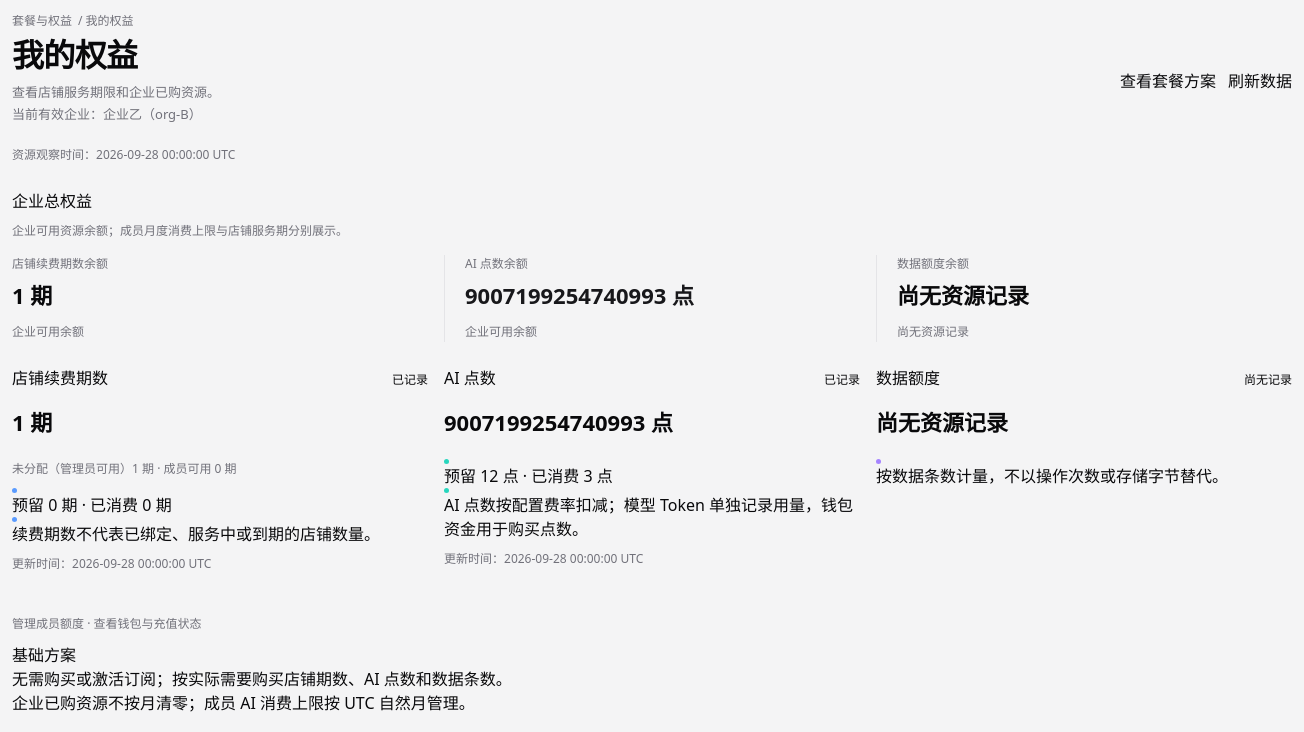
Test case: hides prior success on refresh and displays safe ORGANIZATION_ACCESS_REVOKED without fallback
The width and height of the screenshot is (1304, 732).
Click the button "刷新数据" at x=1260, y=81, box [1228, 69, 1292, 93]
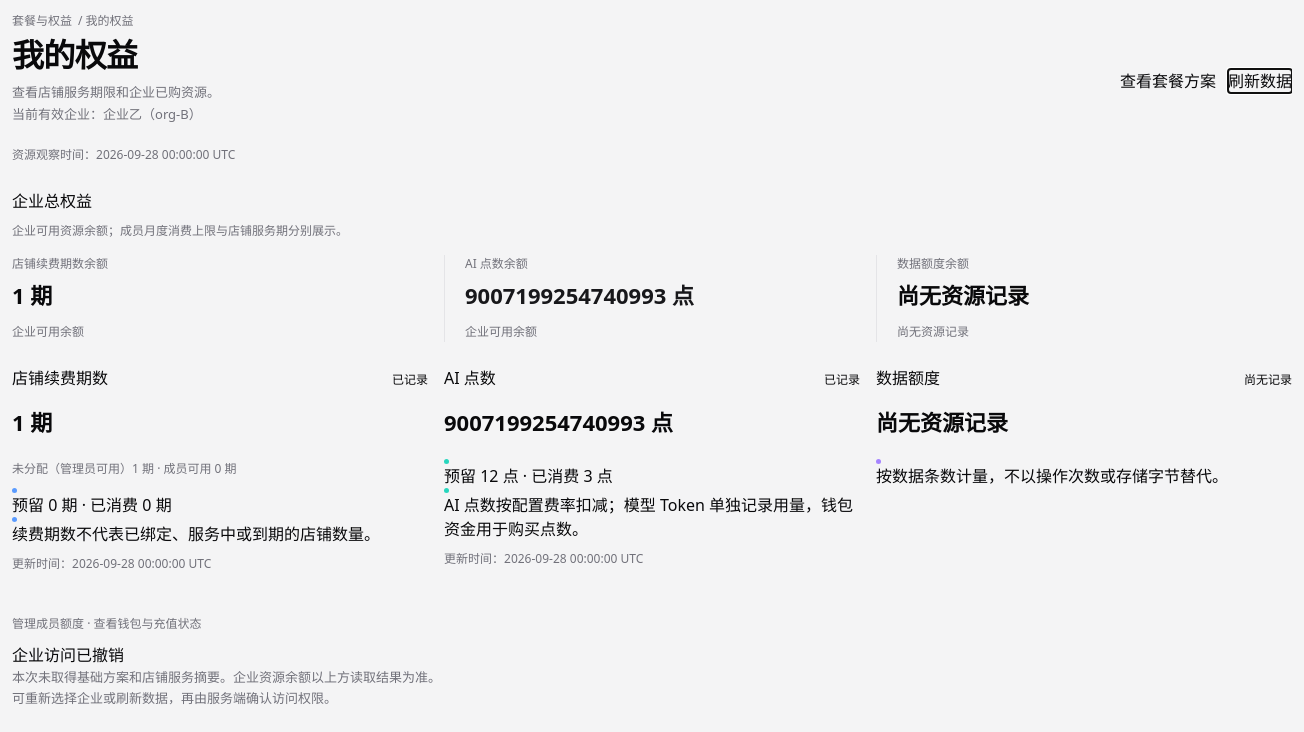
Check: the message shows "企业访问已撤销", box [12, 644, 124, 666]
